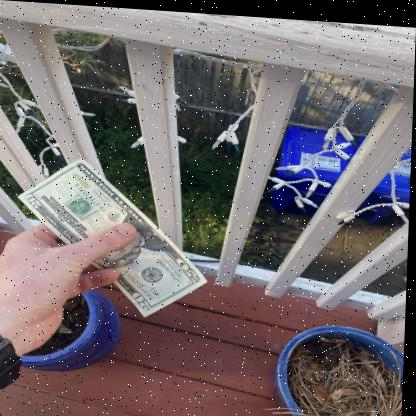twenty-front: (17, 157, 210, 322)
